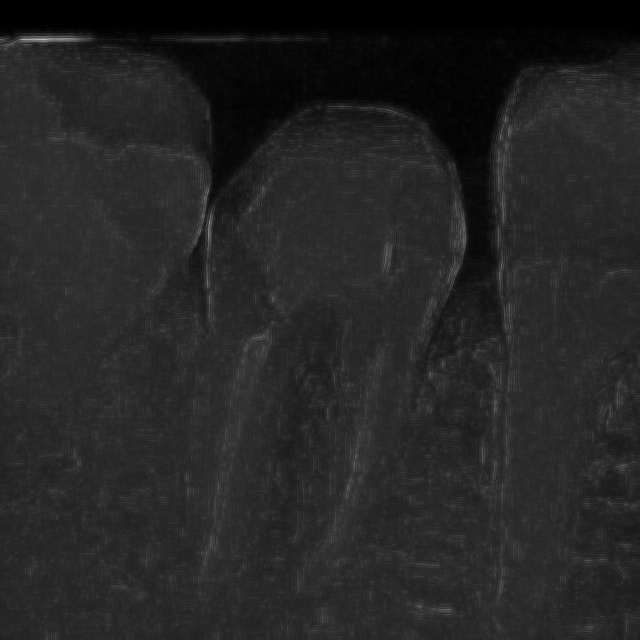Class 0- No endodontic treatment: (179, 311, 423, 631)
cavity: (491, 204, 640, 639)
